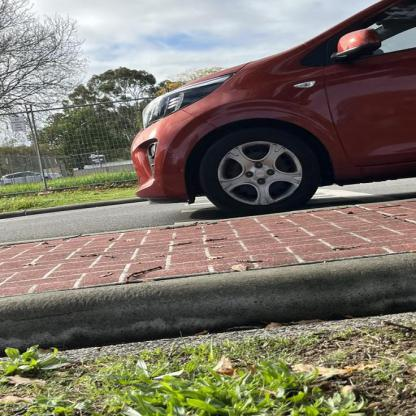Tire: (201, 130, 321, 216)
